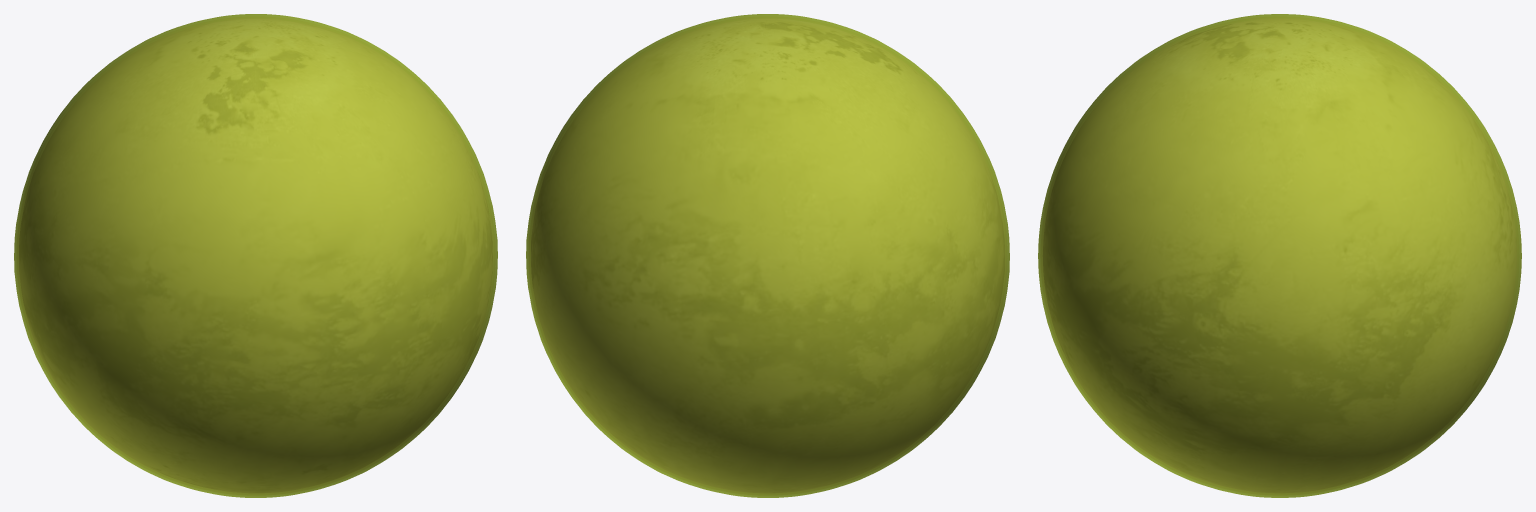
File: titan-transformed.glb
3 views of the same model, side by side, from view 1: azimuth 30°, elevation 25°; view 2: azimuth 150°, elevation 25°; view 3: azimuth 270°, elevation 25° (orthographic).
Visible parts, largest first — view 1: Atmosphere_Atmosphere_0, Titan_Titan_0; view 2: Atmosphere_Atmosphere_0, Titan_Titan_0; view 3: Atmosphere_Atmosphere_0, Titan_Titan_0.
Boxes of the visible parts, x1,y1,x2,y2 form: Atmosphere_Atmosphere_0: (14, 14, 497, 497); Titan_Titan_0: (19, 19, 492, 492); Atmosphere_Atmosphere_0: (526, 14, 1009, 497); Titan_Titan_0: (531, 19, 1004, 492); Atmosphere_Atmosphere_0: (1038, 14, 1521, 497); Titan_Titan_0: (1043, 19, 1516, 492).
Bounding box in the file's own units: 2.04 × 2.04 × 2.04.
